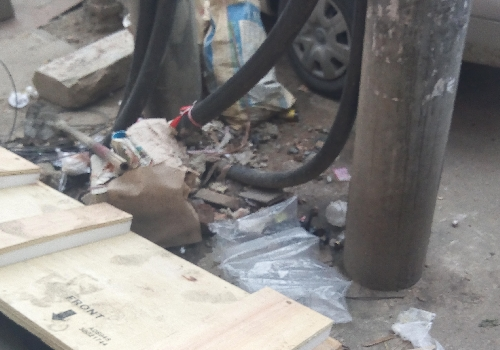trash: (43, 64, 326, 293), (388, 306, 446, 349)
